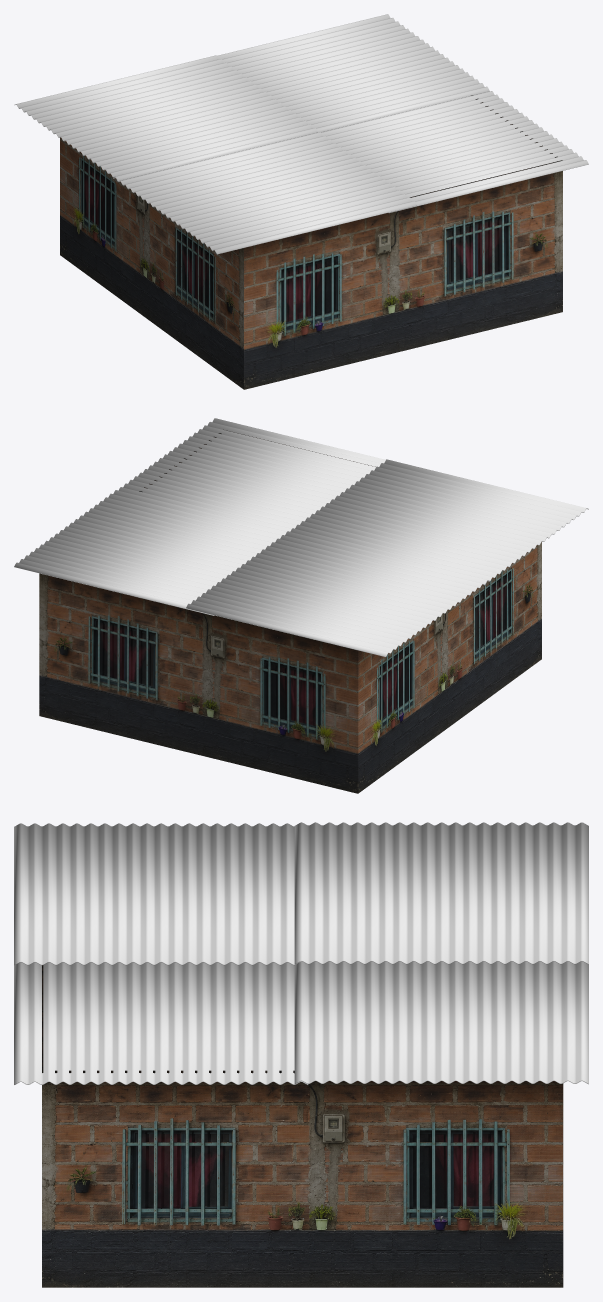
File: casaA_izquierda_08.fbx
3 views of the same model, one above another, from view 1: azimuth 30°, elevation 25°; view 2: azimuth 150°, elevation 25°; view 3: azimuth 270°, elevation 25° (orthographic). The views are drawn at different scales.
Visible parts, largest first — view 1: Techo_08.006, casaA_izquierda_08.003, casaA_izquierda_08.004; view 2: Techo_08.006, casaA_izquierda_08.002, casaA_izquierda_08.004; view 3: Techo_08.006, casaA_izquierda_08.001.
Boxes of the visible parts, x1=… form: Techo_08.006: x1=14, y1=14, x2=588, y2=254; casaA_izquierda_08.003: x1=244, y1=160, x2=562, y2=389; casaA_izquierda_08.004: x1=60, y1=137, x2=243, y2=389; Techo_08.006: x1=14, y1=418, x2=588, y2=656; casaA_izquierda_08.002: x1=39, y1=573, x2=357, y2=793; casaA_izquierda_08.004: x1=358, y1=542, x2=541, y2=793; Techo_08.006: x1=14, y1=822, x2=588, y2=1084; casaA_izquierda_08.001: x1=42, y1=1070, x2=562, y2=1287.
Bounding box in the file's own units: 908 × 361 × 858.
